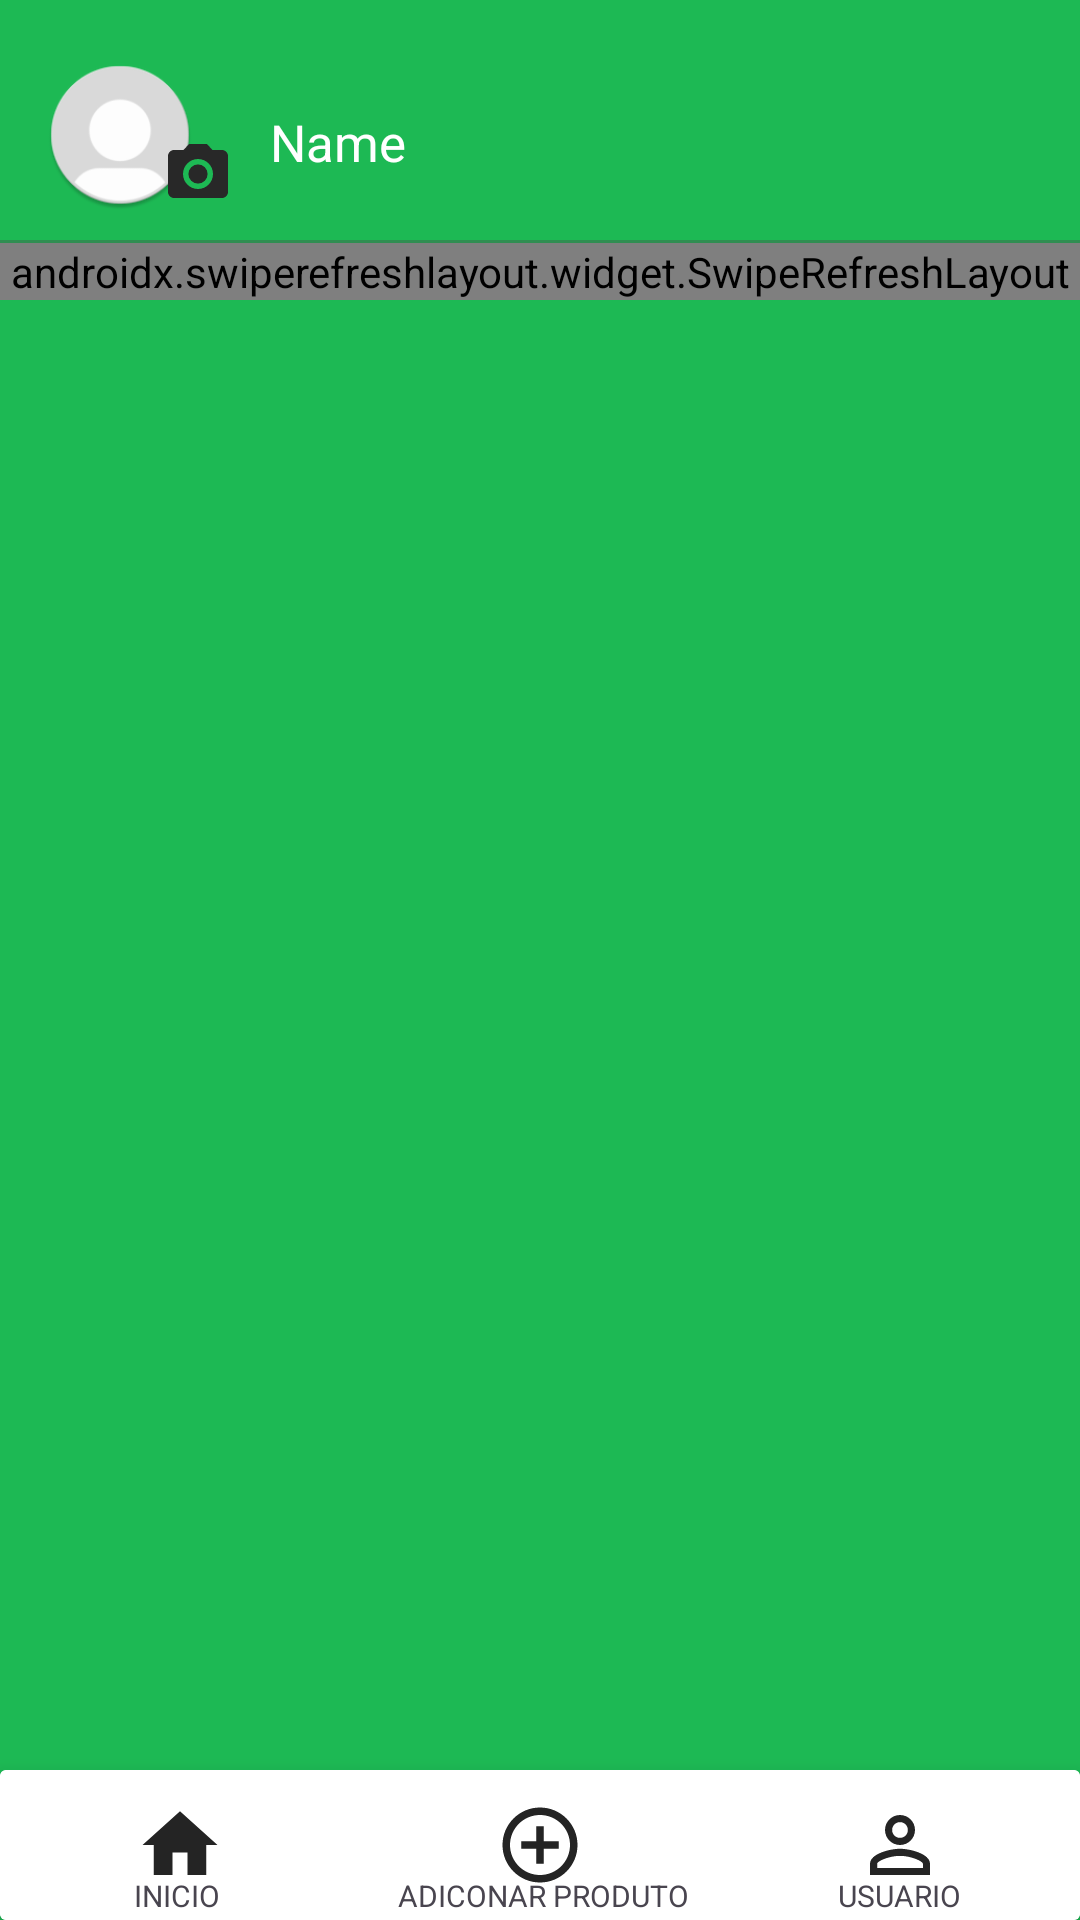

Icons on this 1080px x 1920px Android screen, each with its box as (x1, y1, x2, y2):
add circle: (502, 1807, 578, 1883)
photo camera: (127, 138, 228, 206)
profile round: (51, 66, 195, 207)
